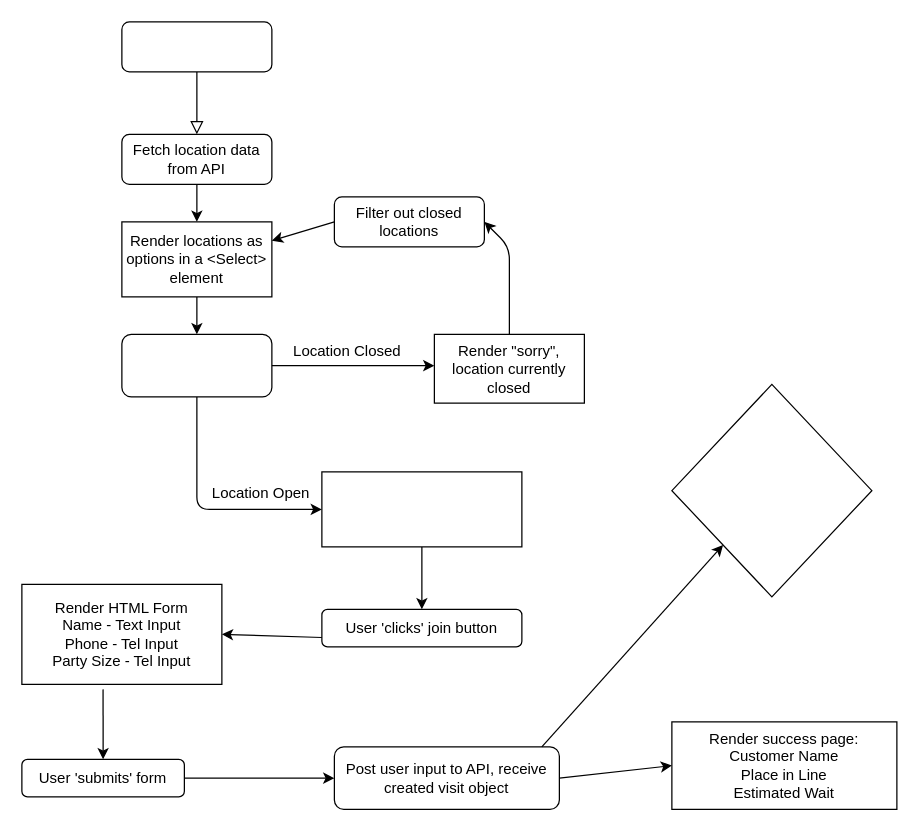
Some shapes in this 919 by 831 pixel diagram are drawn without their labels. The shapes that lost their labels are listed below. From the top down, each one's box as (x1, y1, x2, y2) in pixels, then its label:
(121, 21, 272, 72): DOMContentLoaded
(121, 333, 272, 397): User selects a location
(321, 471, 522, 547): Render # of parties/guests waiting and button to join
(671, 383, 872, 597): User is added to the waitlist, receives text confirmation
